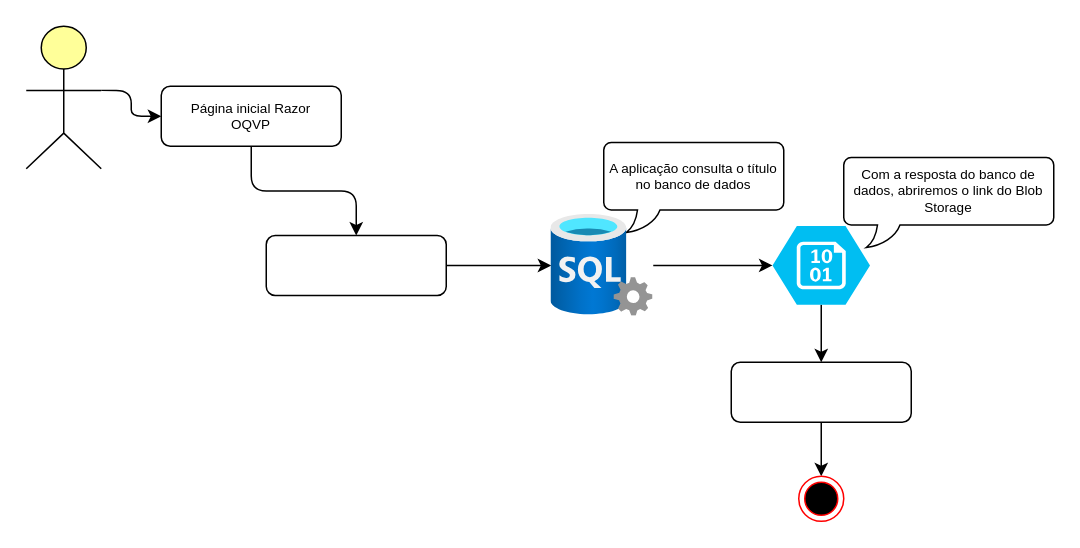
Some shapes in this 1080 by 548 pixel diagram are drawn without their labels. Each missing label, with the centre of its shape:
"Aplicação exibe a notícia salva no link e sua imagem" belongs at point (820, 391).
"Seleciona a notícia pelo título" belongs at point (355, 265).
